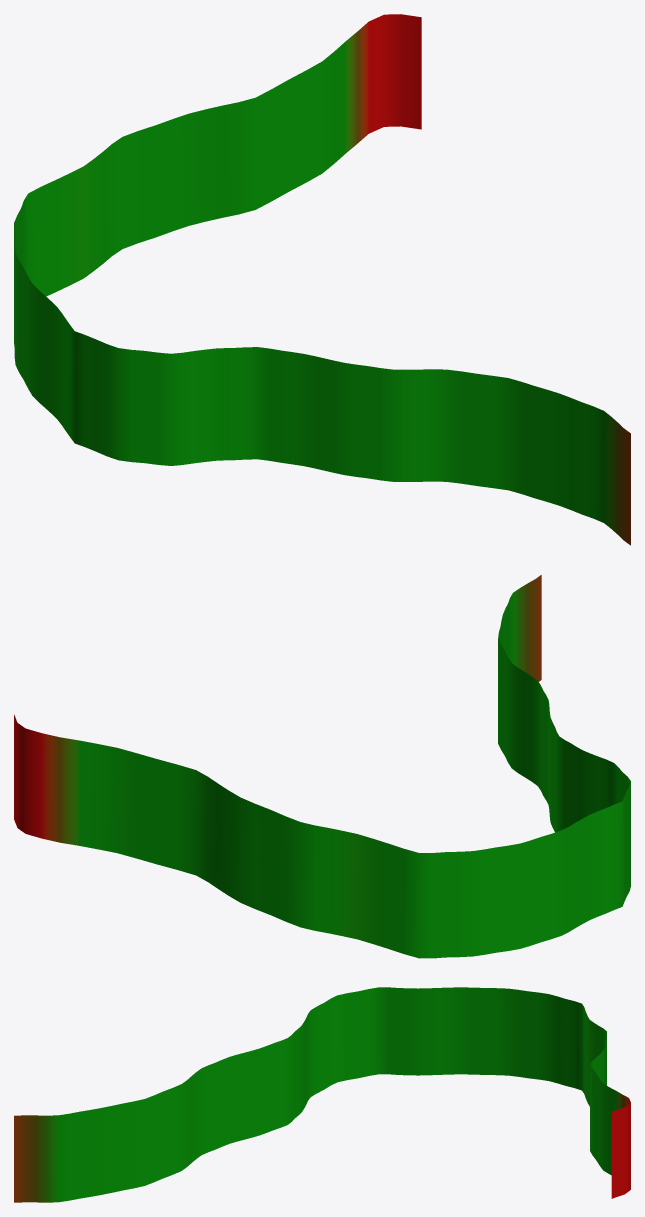
File: Spawn_ForceField_A.FBX
3 views of the same model, one above another, from view 1: azimuth 30°, elevation 25°; view 2: azimuth 150°, elevation 25°; view 3: azimuth 270°, elevation 25° (orthographic). The views are drawn at different scales.
Visible parts, largest first — view 1: Geometry_Spawn_ForceField_A_LOD00; view 2: Geometry_Spawn_ForceField_A_LOD00; view 3: Geometry_Spawn_ForceField_A_LOD00.
Boxes of the visible parts, x1,y1,x2,y2 form: Geometry_Spawn_ForceField_A_LOD00: [14, 14, 630, 545]; Geometry_Spawn_ForceField_A_LOD00: [14, 575, 630, 958]; Geometry_Spawn_ForceField_A_LOD00: [14, 987, 630, 1202].
Size of what is drawn, in the model's own units: 4180 by 1631 by 5794.
